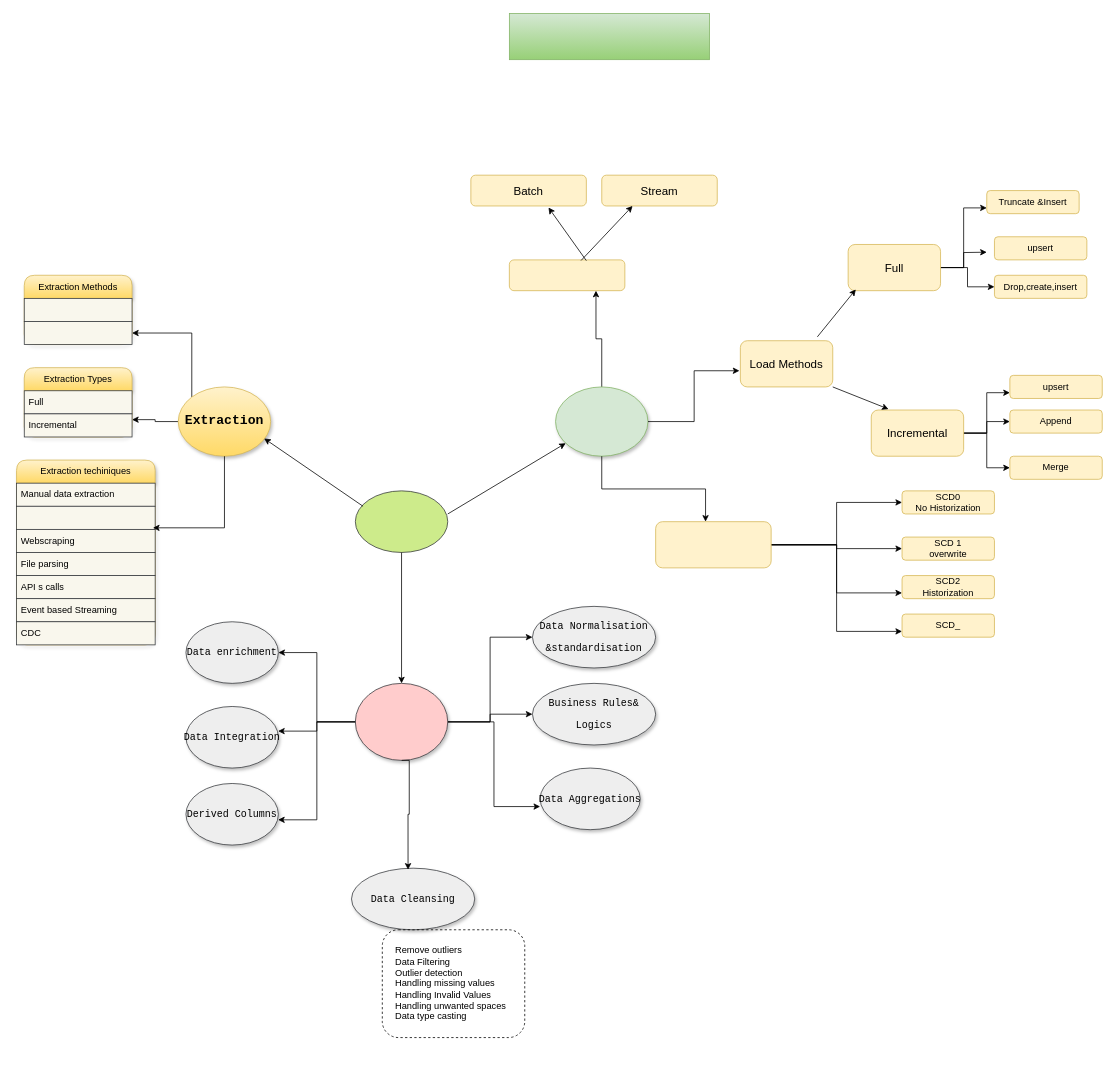
Image size: 1116x1082. Some labels were removed from this diagram. Here are the shapes that lost their labels. From the top down, the centre of each, then its label:
the point at 609,36: ETL Methods
the point at 567,275: Processing Types
the point at 77,309: Pull
the point at 77,333: Push
the point at 602,422: Load
the point at 85,517: Database Querying
the point at 401,521: ETL
the point at 713,544: Slowly Changing Dimesions(SCD)
the point at 402,723: Transformation
